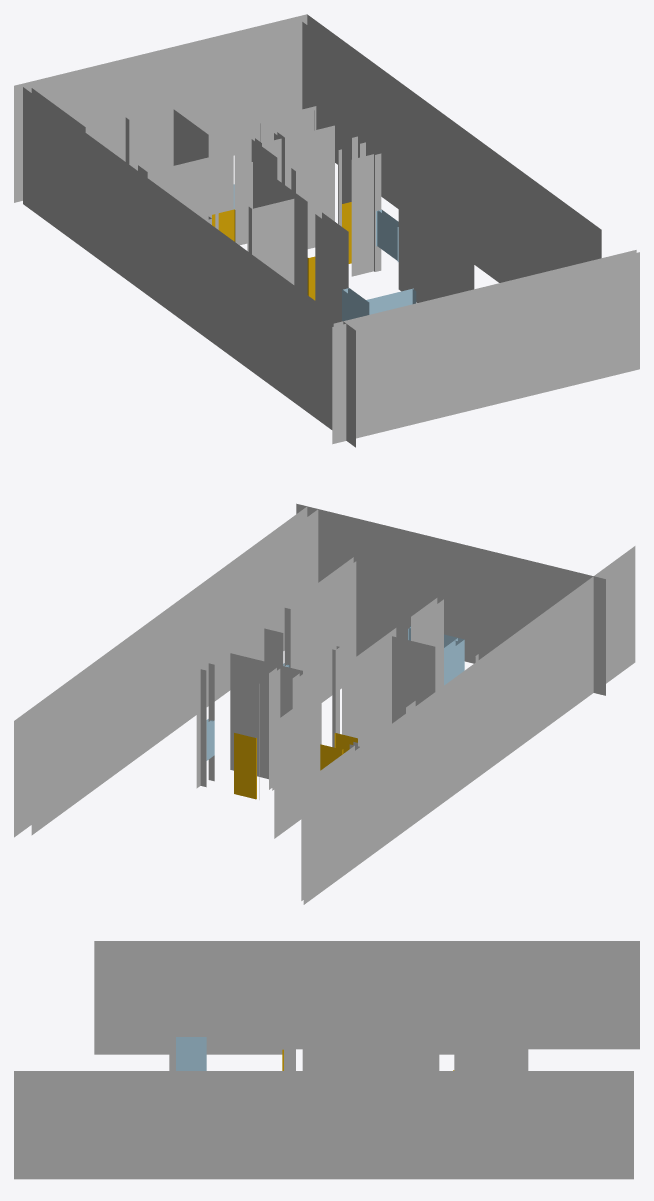
File: ab542326-5d86-4edf-847a-7864a93e6ada.glb
The picture shows the model from 3 angles, top to bottom: view 1: azimuth 30°, elevation 25°; view 2: azimuth 150°, elevation 25°; view 3: azimuth 270°, elevation 25°; orthographic projection. The views are drawn at different scales.
Parts seen in each view (by area): view 1: walls, windows, doors; view 2: walls, doors, windows; view 3: walls, windows.
Boxes of the visible parts, box(x1,y1,x2,y2) form: walls: box(14, 14, 639, 447); windows: box(233, 184, 416, 321); doors: box(212, 202, 351, 300); walls: box(14, 503, 635, 904); doors: box(234, 733, 357, 799); windows: box(206, 626, 464, 760); walls: box(14, 941, 639, 1179); windows: box(176, 1037, 206, 1070).
Bounding box in the file's own units: 11.17 × 4 × 20.91.
